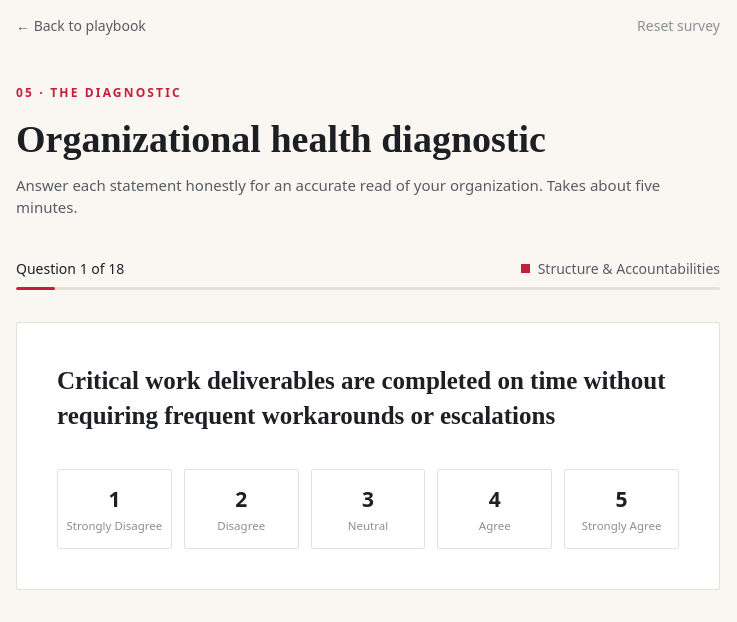
Test case: Diagnostic Survey › Reset survey clears answers and returns to question 1
Click the radio button labelled "Neutral" at (368,509), box [311,469,425,549]
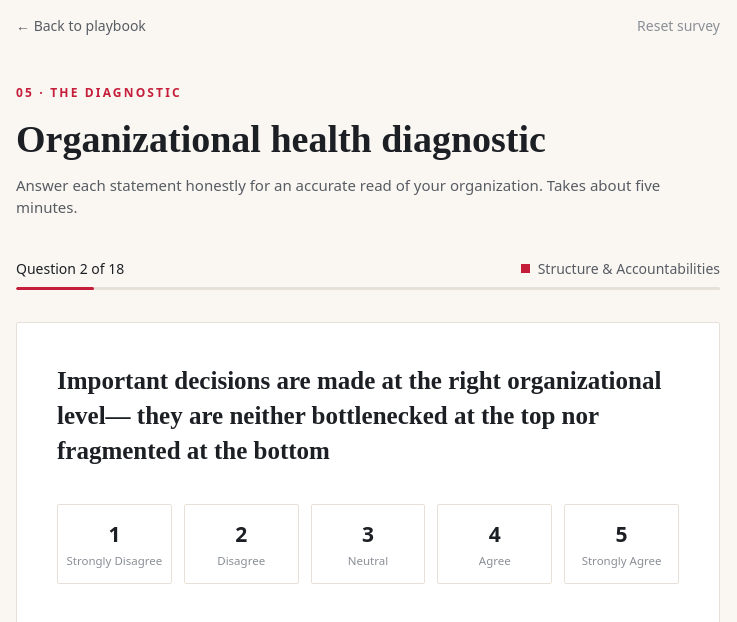
Check: the text "Question 2 of 18" is shown, box [16,259,124,279]
Click the button "Reset survey" at (679,26), box [637,16,720,36]
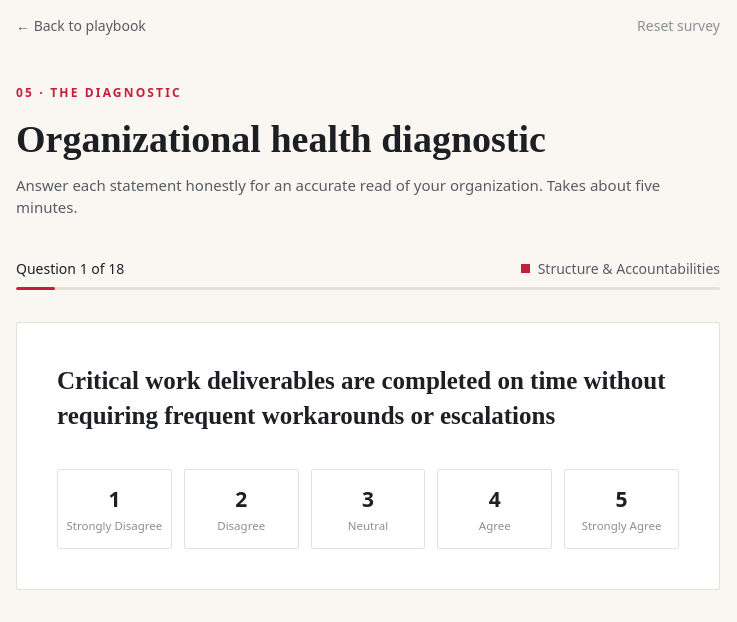
Check: the radio button labelled "1 Strongly Disagree" is not checked, box [57,469,172,549]
Check: the text "Question 1 of 18" is shown, box [16,259,124,279]
